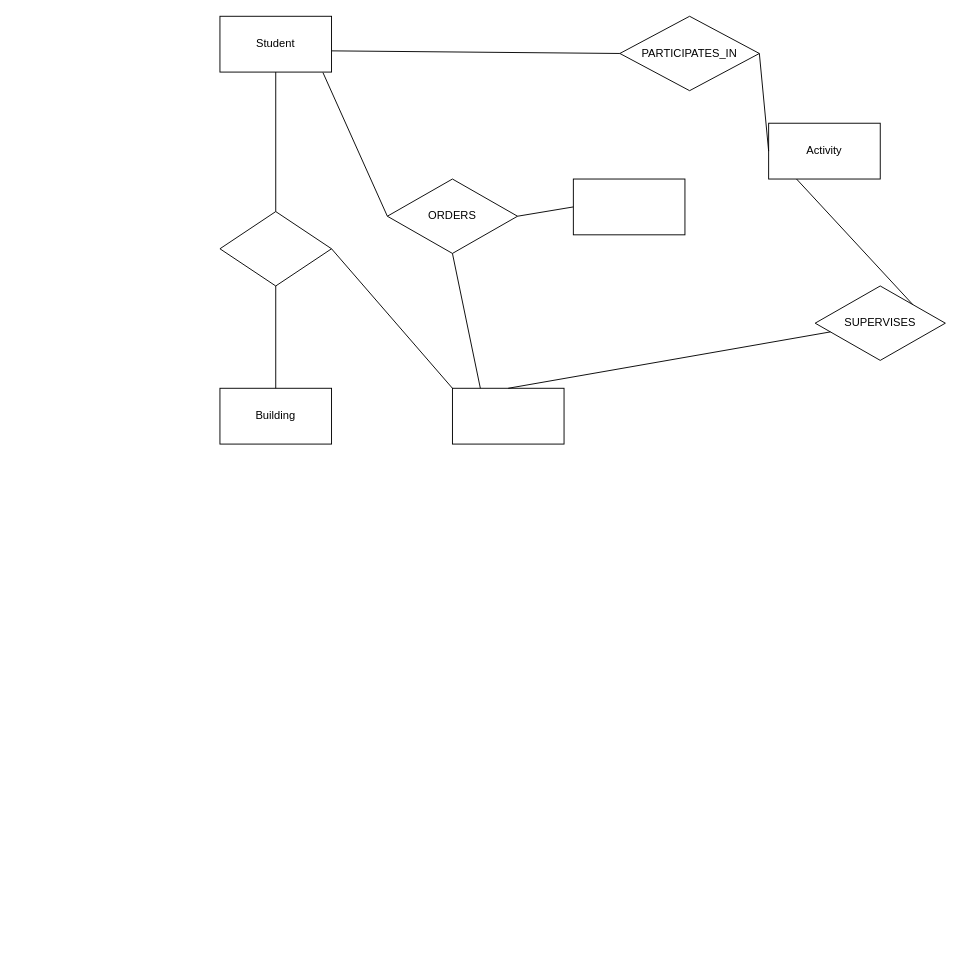
Image size: 962x977. Some labels were removed from this diagram. The centre of each missing label's shape, as x and y in pixels:
"Drink" belongs at pixel 628 206.
"Lecturer" belongs at pixel 508 415.
"SLEEPS_IN" belongs at pixel 275 248.
